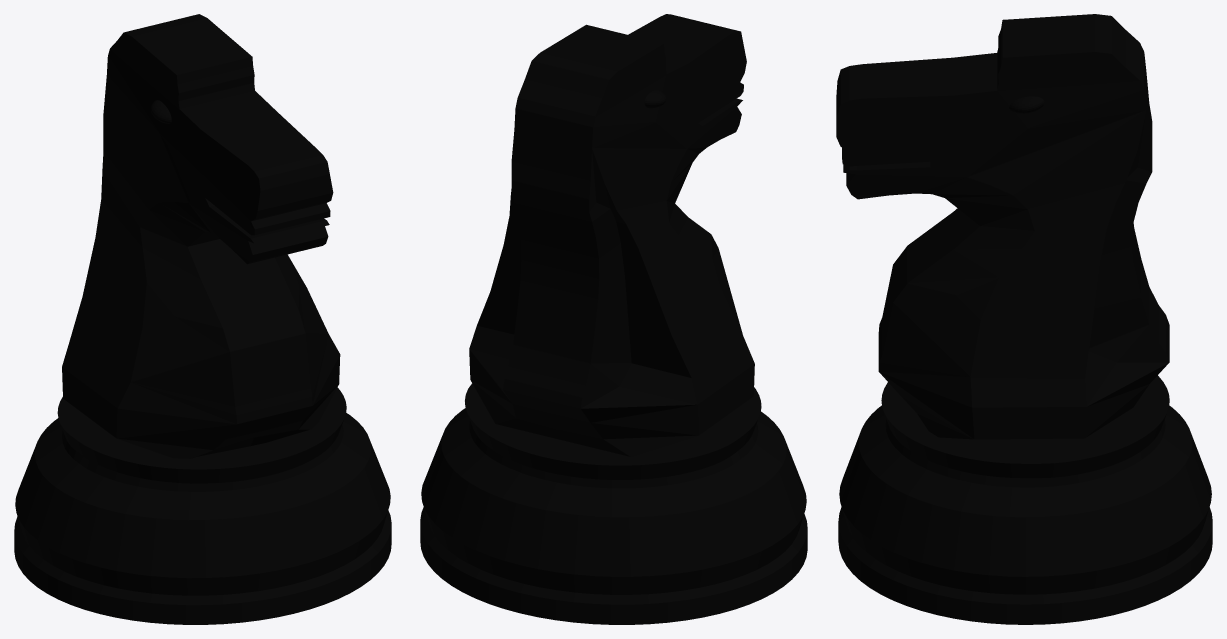
The model's file is KnightB.glb.
The picture shows the model from 3 angles, left to right: view 1: azimuth 30°, elevation 25°; view 2: azimuth 150°, elevation 25°; view 3: azimuth 270°, elevation 25°; orthographic projection. The views are drawn at different scales.
Parts seen in each view (by area): view 1: RookA8.001; view 2: RookA8.001; view 3: RookA8.001.
Part boxes in pixels (bbox=[...]): RookA8.001: bbox=[14, 14, 391, 624]; RookA8.001: bbox=[420, 14, 807, 624]; RookA8.001: bbox=[836, 14, 1212, 624].
Bounding box in the file's own units: 1.05 × 1.5 × 1.
Materials: 1 (1 with a texture image).
